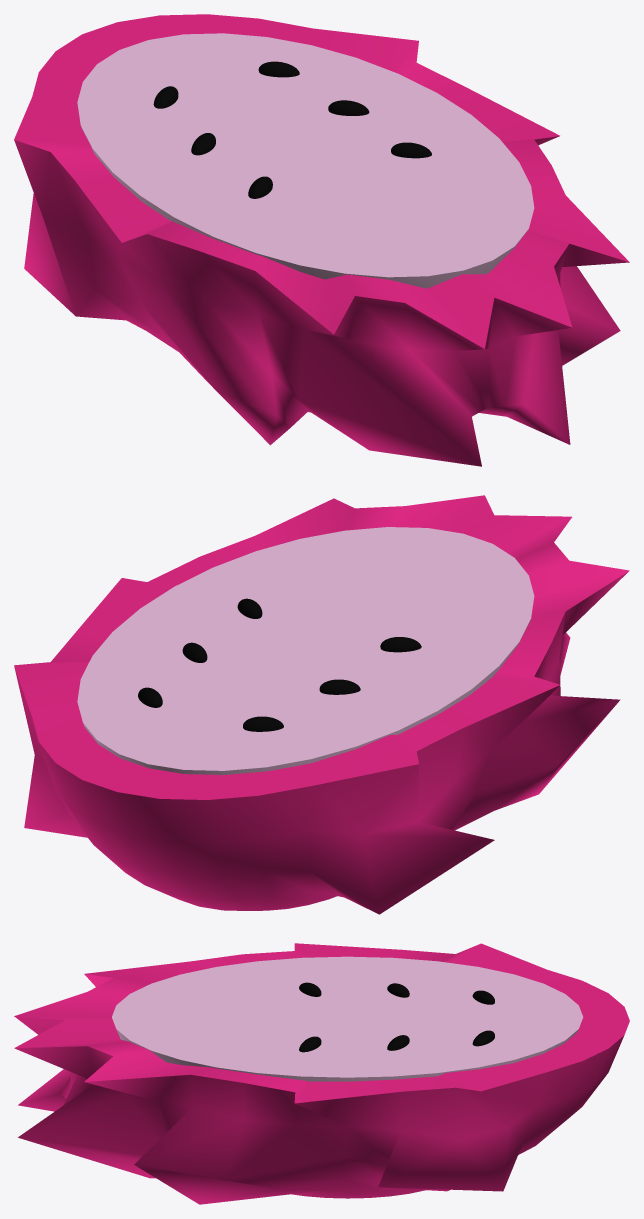
The model's file is DragonFruit.fbx.
3 views of the same model, one above another, from view 1: azimuth 30°, elevation 25°; view 2: azimuth 150°, elevation 25°; view 3: azimuth 270°, elevation 25° (orthographic). The views are drawn at different scales.
Parts seen in each view (by area): view 1: DragonFruit; view 2: DragonFruit; view 3: DragonFruit.
Part boxes in pixels (x1,y1,x2,y2): DragonFruit: (14,14,629,466); DragonFruit: (14,495,629,914); DragonFruit: (14,943,629,1204).
Bounding box in the file's own units: 38.38 × 19.7 × 62.35.
